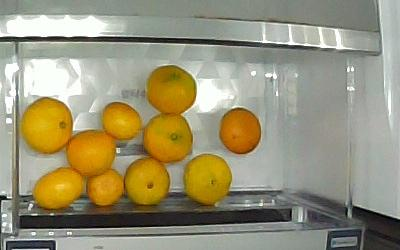tangerine: (22, 98, 73, 155), (184, 153, 232, 205), (143, 115, 193, 164), (147, 65, 197, 113), (67, 130, 117, 175), (32, 167, 84, 209), (125, 158, 171, 205), (218, 107, 262, 154), (102, 101, 141, 141), (85, 169, 125, 206)
